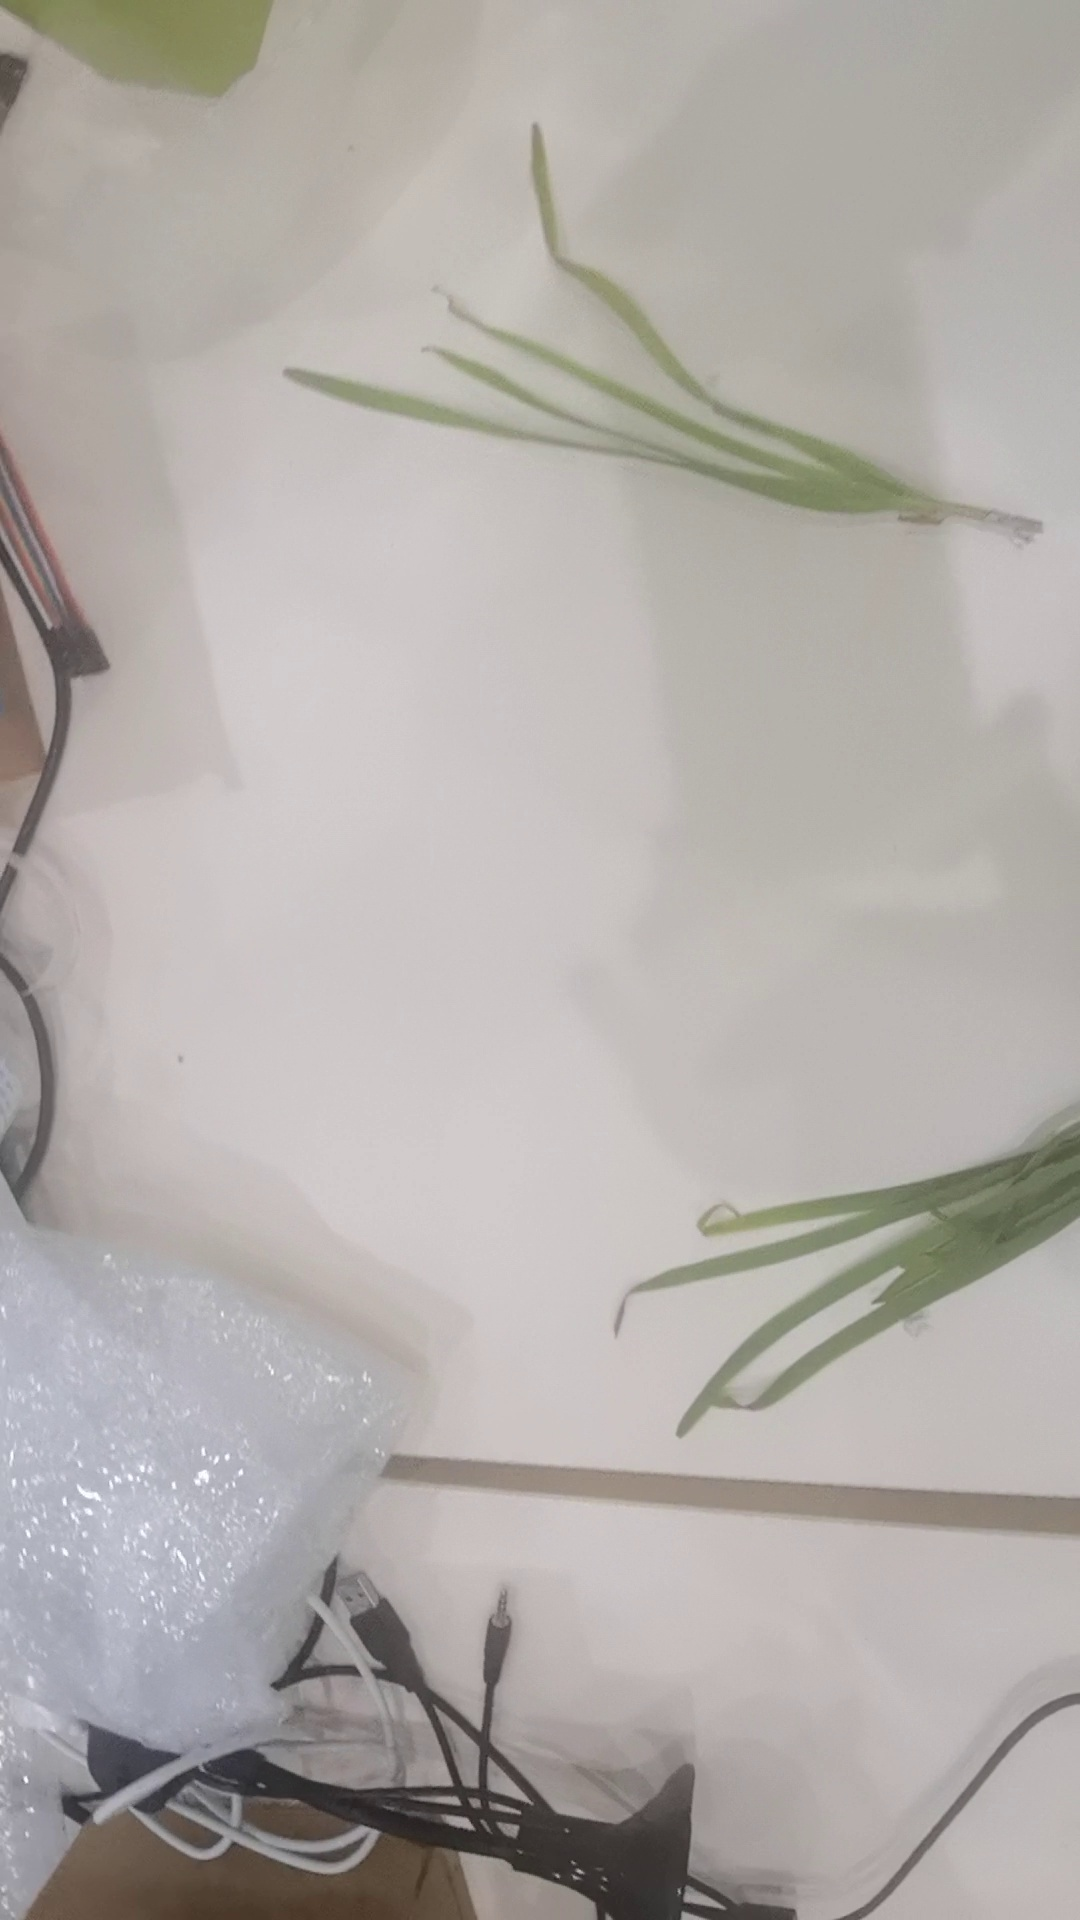chives: (258, 119, 1040, 543)
